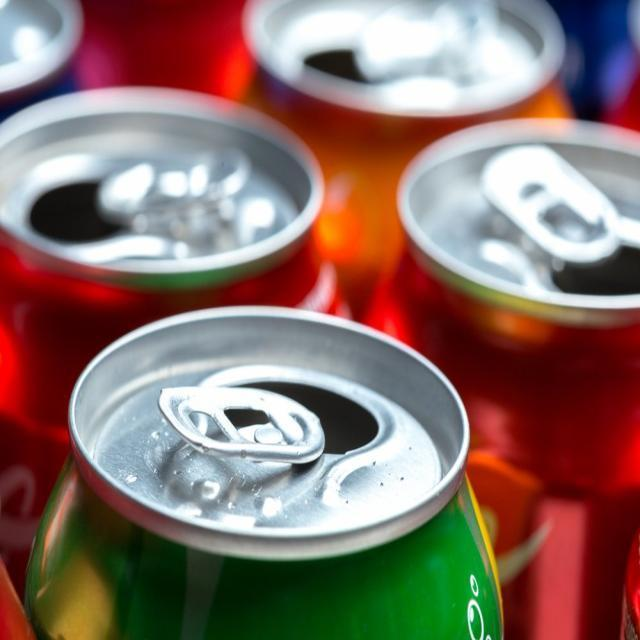metal-can: (28, 304, 504, 640), (368, 116, 640, 640)
